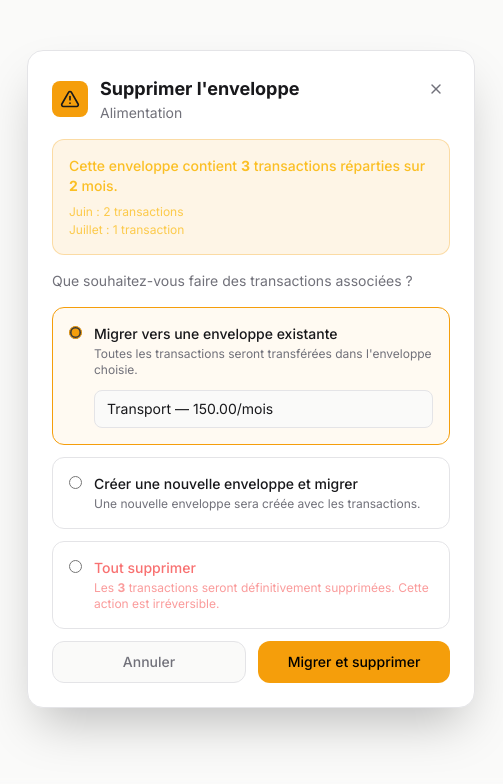
Test: DeleteEnvelopeModal › when envelope has linked transactions › shows inline form when create-new is selected
# Click the create-new radio label
Click the text "Créer une nouvelle enveloppe et migrer": (226,484) [94,475,358,492]
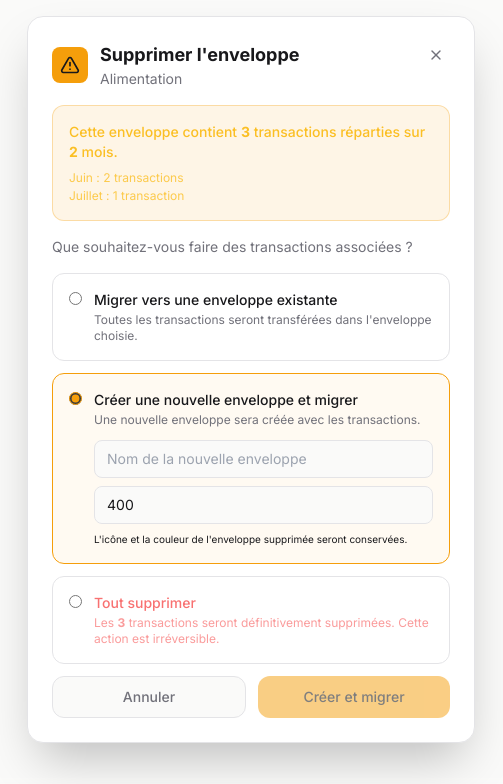
Result: the field with placeholder "Nom de la nouvelle enveloppe" is shown at [94,440,433,478]
Result: the number field with placeholder "Budget mensuel" is shown at [94,486,433,524]
